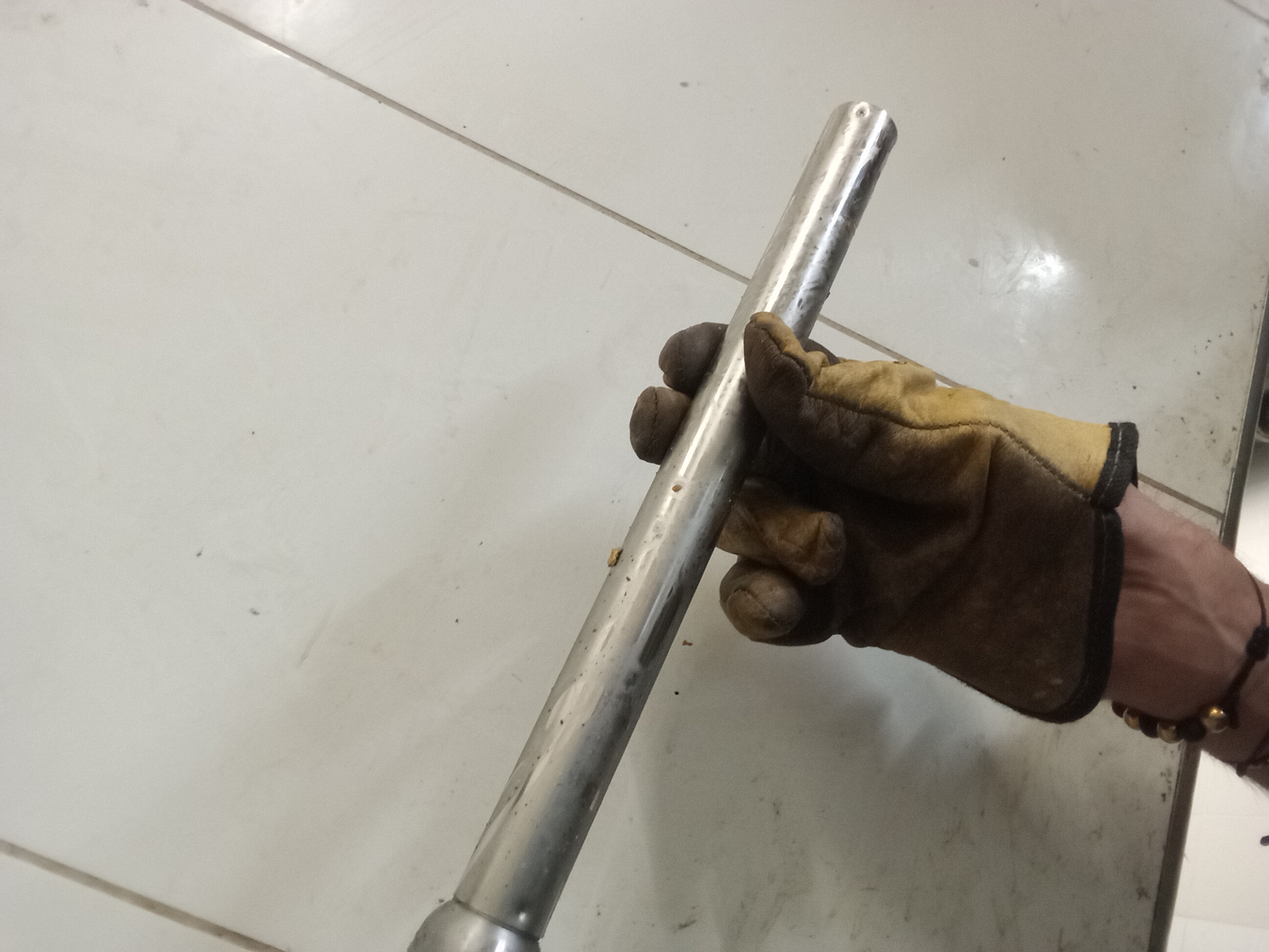Metal: (406, 90, 897, 952)
